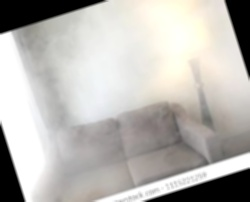smoke: (0, 12, 121, 202)
